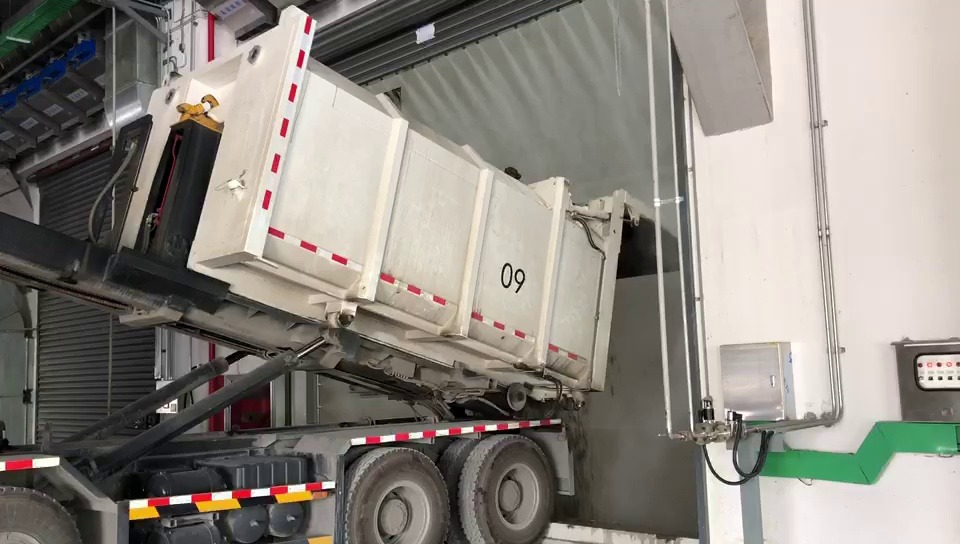truck: (0, 22, 637, 544)
